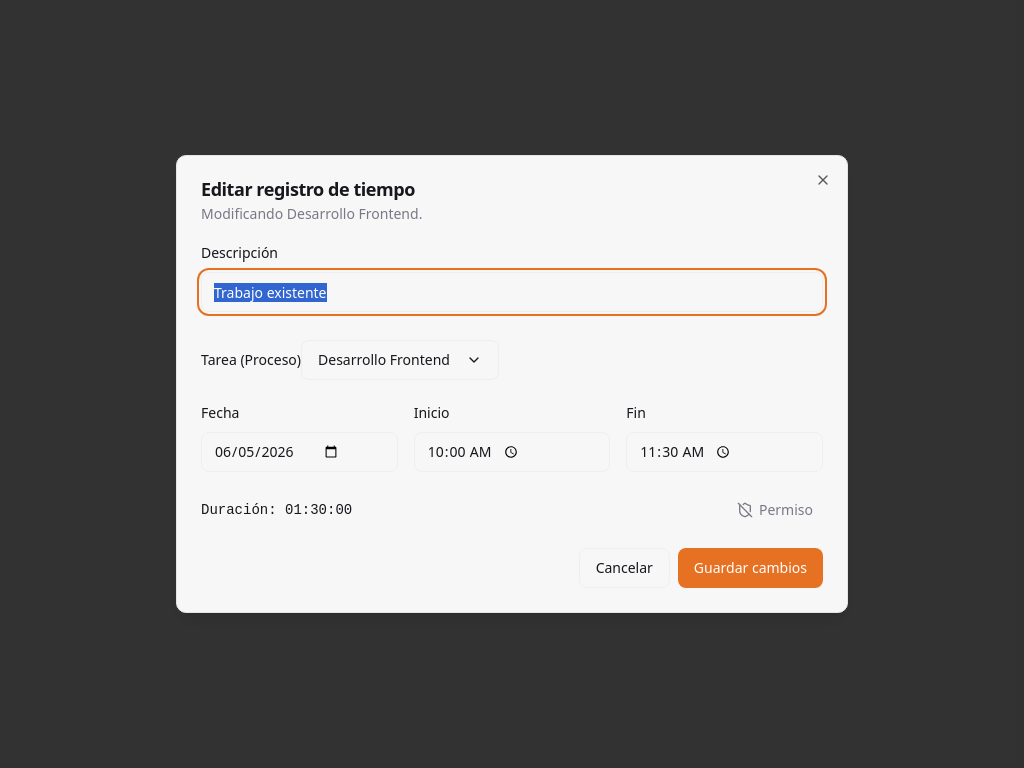
TimeEntryEditorDialog › does not submit or close when opening the process selector in edit mode
Click the button "Desarrollo Frontend" at (400, 360), box [301, 340, 499, 380]
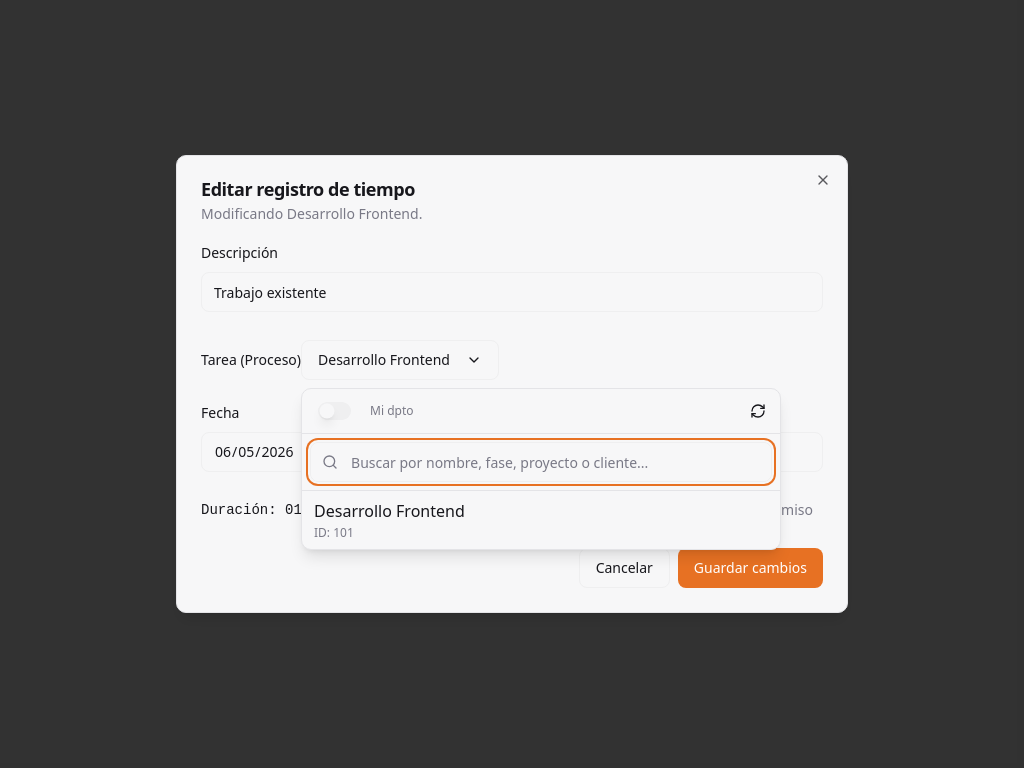
Expected: the field with placeholder "Buscar por nombre, fase, proyecto o cliente..." is shown, [310, 442, 772, 482]
